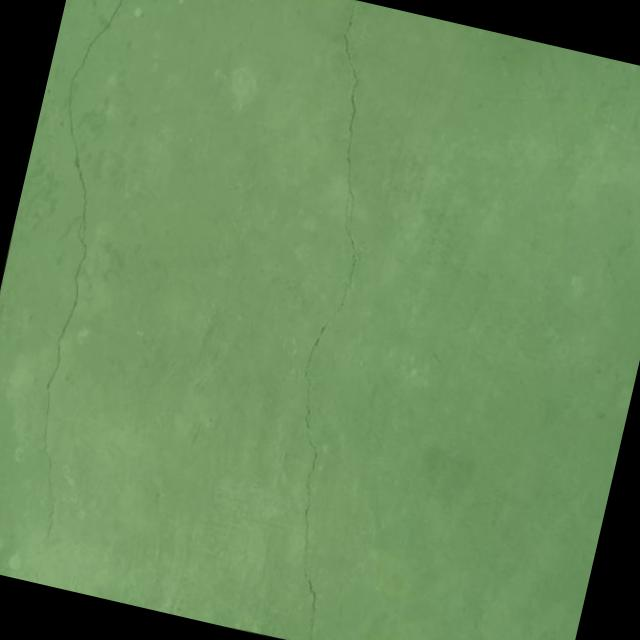crack: (205, 0, 454, 640), (0, 0, 179, 540), (0, 537, 45, 584)
